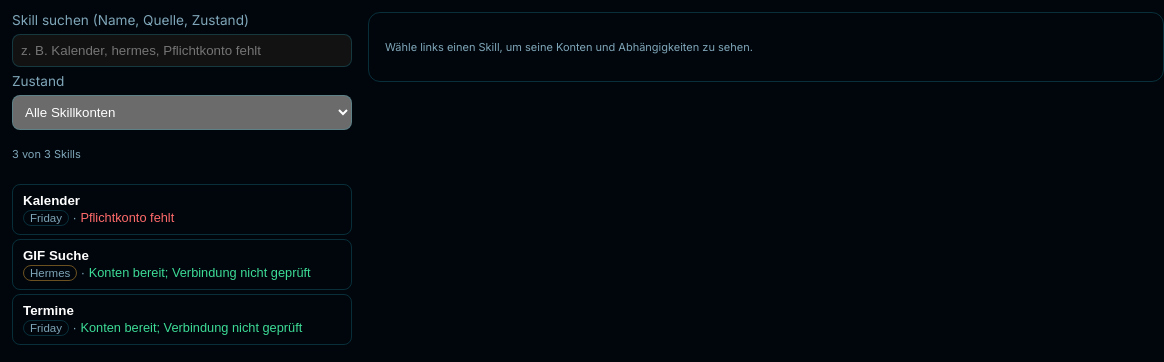
Test: skill account workbench › lists skills with source and state and shows only the selected skill's accounts
Expected: the text "GIF Suche" is shown, x1=23 y1=248 x2=89 y2=263
Expected: the text "Hermes" is shown, x1=23 y1=265 x2=77 y2=281
Step 1. Click the button "GIF Suche Hermes · Konten bereit; Verbindung nicht geprüft" → (182, 264), box x1=12 y1=239 x2=352 y2=290
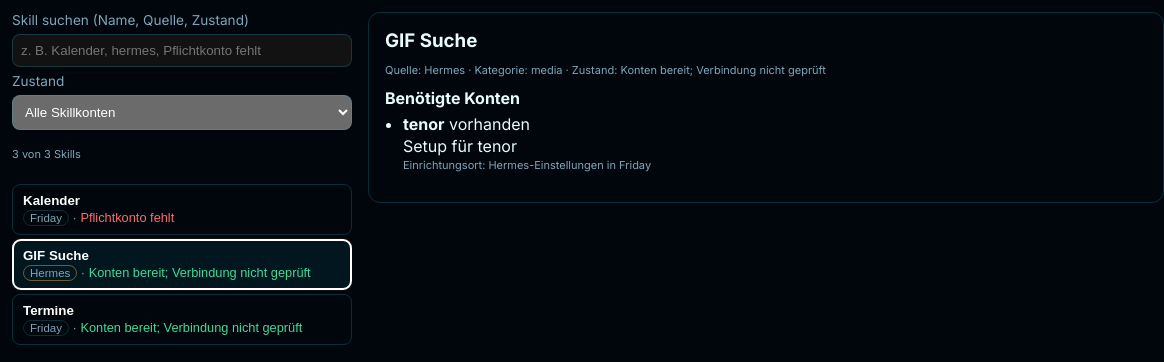
Expected: the text "Setup für tenor" is shown, x1=403 y1=136 x2=517 y2=156
Expected: the text "Einrichtungsort: Hermes-Einstellungen in Friday" is shown, x1=403 y1=158 x2=651 y2=172
